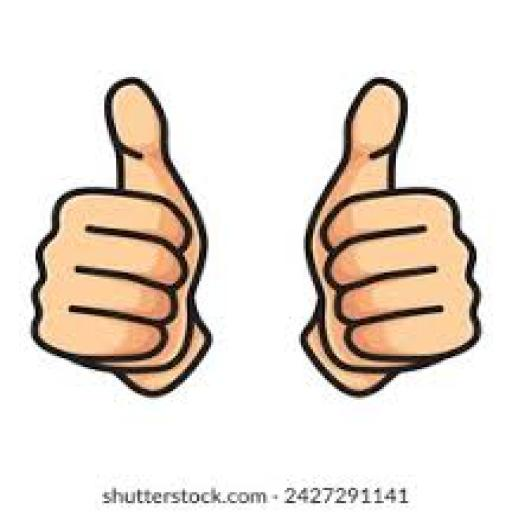Thumbs_Up: (257, 63, 504, 415), (31, 48, 232, 434)
